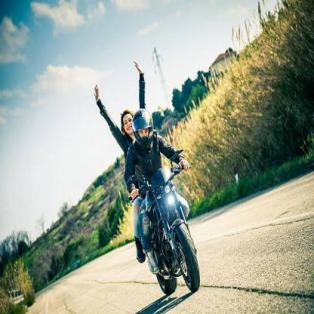Motocicleta: (122, 164, 208, 301)
